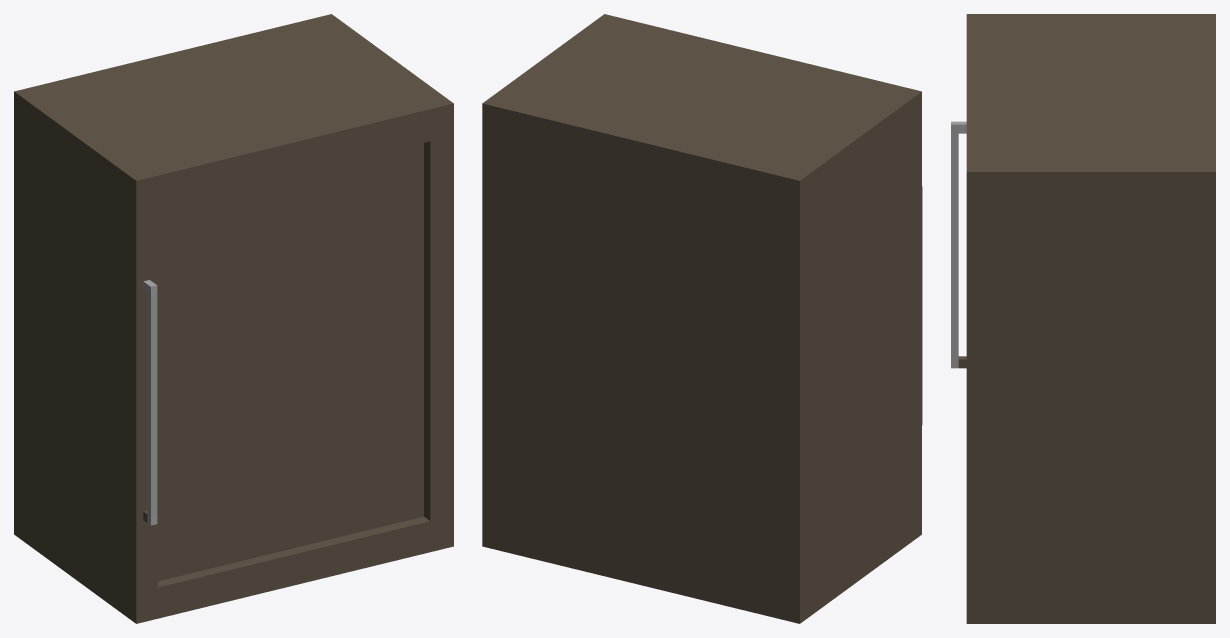
Rendered from CabinetRight.fbx.
3 renders of one model, left to right at view 1: azimuth 30°, elevation 25°; view 2: azimuth 150°, elevation 25°; view 3: azimuth 270°, elevation 25°, orthographic. The views are drawn at different scales.
Parts seen in each view (by area): view 1: CabinetRight; view 2: CabinetRight; view 3: CabinetRight.
Boxes of the visible parts, x1,y1,x2,y2 form: CabinetRight: (14, 14, 453, 623); CabinetRight: (482, 14, 922, 623); CabinetRight: (951, 14, 1215, 623).
Size of the model in its own units: 75 by 100 by 53.08.
